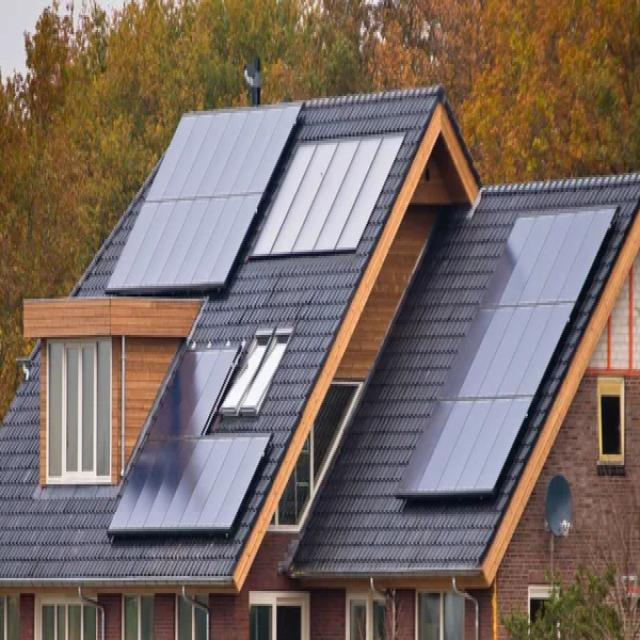clean-solar-panel: (393, 208, 617, 493), (104, 100, 305, 288), (109, 345, 270, 535)
